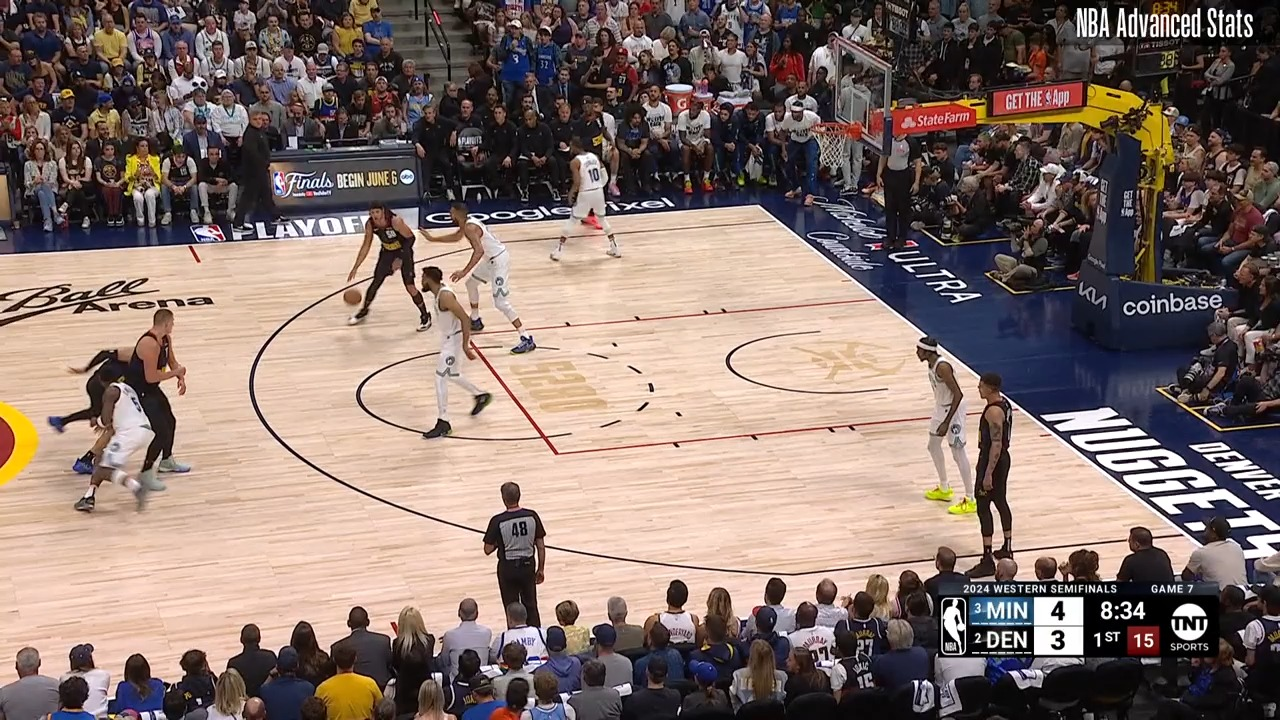basketball: (342, 287, 363, 309)
